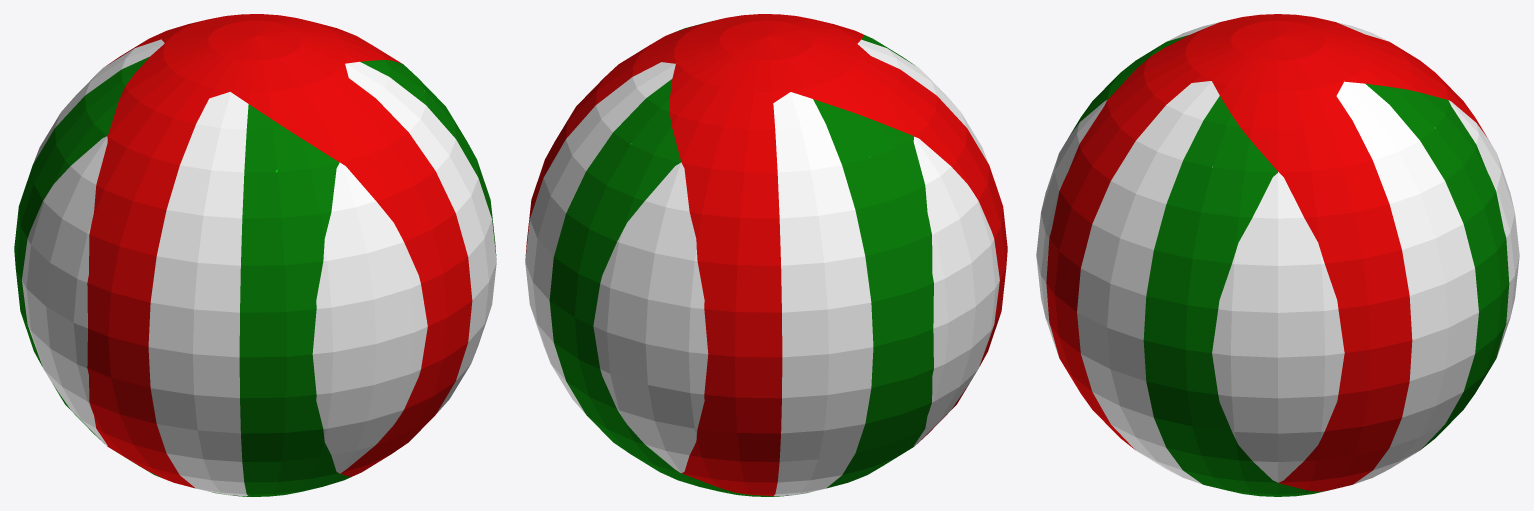
File: vollyball 1.fbx
The picture shows the model from 3 angles, left to right: view 1: azimuth 30°, elevation 25°; view 2: azimuth 150°, elevation 25°; view 3: azimuth 270°, elevation 25°; orthographic projection.
Visible parts, largest first — view 1: Sphere; view 2: Sphere; view 3: Sphere.
Boxes of the visible parts, x1,y1,x2,y2 form: Sphere: [14, 14, 496, 496]; Sphere: [525, 14, 1007, 496]; Sphere: [1036, 14, 1519, 496].
Bounding box in the file's own units: 200 × 200 × 200.
